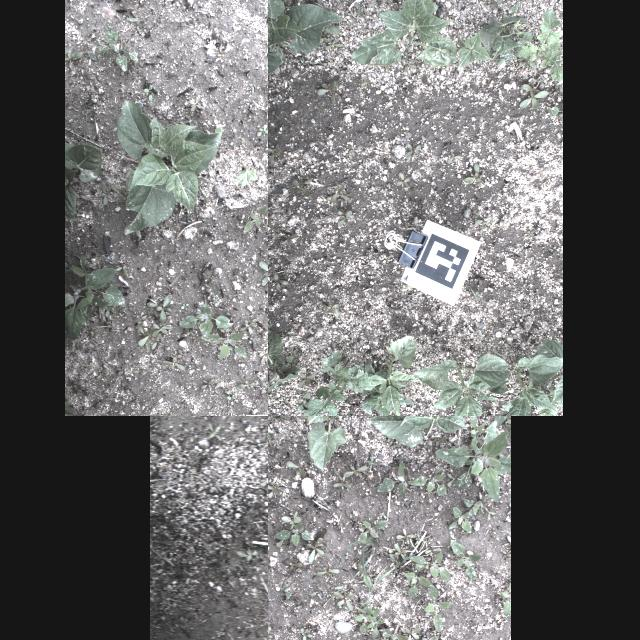crop: (116, 102, 224, 234), (268, 0, 346, 92), (351, 0, 457, 67), (411, 353, 510, 416), (304, 350, 386, 416), (485, 353, 562, 416), (363, 335, 419, 416), (66, 266, 124, 338), (365, 416, 501, 446), (517, 6, 563, 82), (482, 4, 532, 64), (65, 142, 101, 220), (302, 416, 353, 471), (268, 329, 296, 394), (536, 339, 562, 406), (458, 31, 492, 71), (236, 162, 258, 186), (539, 387, 553, 416), (491, 416, 510, 428), (64, 294, 74, 306)
weed: (368, 518, 446, 604), (435, 420, 511, 500), (323, 537, 375, 607), (95, 23, 139, 72), (177, 304, 233, 338), (200, 331, 246, 361), (451, 539, 483, 581), (424, 584, 452, 632), (410, 467, 448, 498), (408, 552, 450, 580), (378, 460, 408, 498), (403, 562, 431, 598), (274, 522, 312, 548), (520, 80, 548, 110), (355, 520, 389, 544), (244, 201, 268, 234), (354, 598, 376, 634), (197, 177, 221, 209), (317, 80, 347, 104), (448, 506, 472, 534), (367, 606, 385, 638), (470, 416, 485, 452), (72, 41, 98, 61), (272, 354, 300, 372), (306, 536, 324, 564), (463, 162, 485, 184), (290, 173, 310, 197), (326, 186, 352, 204), (125, 16, 148, 34), (286, 460, 306, 480), (334, 591, 354, 611), (464, 499, 484, 519), (156, 295, 170, 323), (322, 299, 341, 319), (159, 356, 185, 370), (234, 548, 260, 562), (501, 581, 511, 617), (281, 512, 301, 530), (150, 322, 172, 338), (344, 464, 368, 478), (382, 628, 410, 640), (337, 209, 355, 227), (398, 528, 417, 544), (271, 274, 289, 290), (316, 23, 340, 35), (397, 58, 417, 72), (403, 143, 422, 157), (64, 48, 74, 74), (240, 318, 256, 334), (547, 106, 563, 122), (189, 94, 203, 112), (110, 184, 124, 202), (259, 259, 268, 287), (520, 54, 538, 68), (208, 424, 222, 442), (332, 476, 350, 490), (474, 494, 492, 508), (202, 286, 222, 298), (298, 392, 310, 412), (316, 567, 340, 577), (268, 146, 283, 161), (92, 396, 108, 410), (64, 399, 78, 415), (396, 172, 410, 188), (394, 544, 408, 560), (236, 380, 258, 390), (143, 86, 155, 104), (136, 324, 154, 336), (485, 506, 497, 524), (98, 180, 106, 206), (115, 264, 128, 280), (404, 628, 421, 640), (298, 374, 314, 386), (268, 482, 280, 498), (366, 454, 378, 470), (79, 250, 89, 268), (284, 583, 294, 601), (284, 560, 302, 570), (424, 546, 442, 556), (259, 346, 268, 365), (94, 368, 108, 380), (114, 363, 126, 377), (374, 367, 386, 381), (280, 234, 296, 244), (326, 40, 342, 50), (336, 70, 352, 80), (200, 378, 214, 389), (132, 367, 150, 375), (175, 350, 187, 362), (310, 588, 322, 600), (276, 536, 288, 548), (138, 310, 152, 320), (146, 339, 156, 353), (230, 290, 244, 300), (224, 390, 238, 400), (72, 378, 82, 392), (354, 2, 364, 16), (474, 218, 494, 225), (260, 381, 268, 398), (257, 125, 268, 137), (301, 628, 312, 640), (88, 328, 99, 339), (176, 256, 188, 266), (104, 306, 116, 316), (359, 77, 371, 87), (333, 468, 343, 480), (421, 631, 434, 640), (448, 154, 462, 162), (556, 75, 562, 93), (260, 106, 268, 119), (120, 382, 130, 392), (490, 0, 501, 9), (246, 115, 258, 123), (240, 134, 248, 146), (144, 301, 156, 309), (479, 221, 487, 233), (503, 550, 511, 562), (249, 82, 255, 96), (138, 338, 148, 346), (168, 499, 178, 506), (432, 635, 446, 640), (88, 81, 94, 92), (180, 304, 188, 312), (90, 312, 100, 318), (184, 331, 194, 337), (472, 291, 478, 301), (268, 626, 272, 640), (294, 0, 300, 9), (268, 431, 274, 440), (296, 416, 309, 420), (248, 336, 254, 344), (215, 382, 221, 390), (155, 413, 171, 416), (263, 144, 268, 152), (507, 535, 511, 545), (215, 298, 221, 304), (402, 284, 408, 290), (541, 294, 547, 300)
